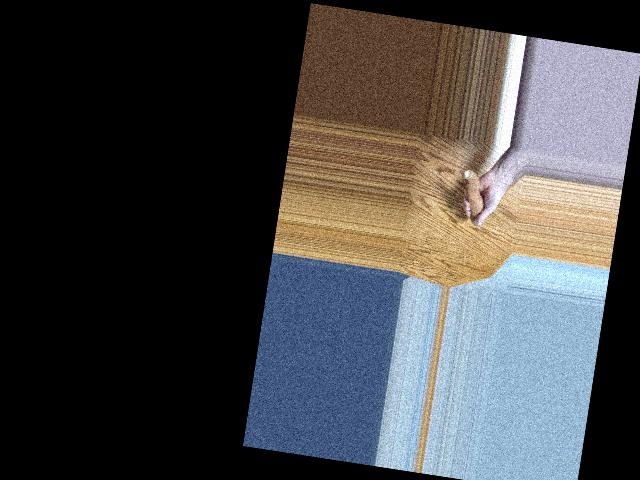sweet_potato: (456, 165, 489, 229)
